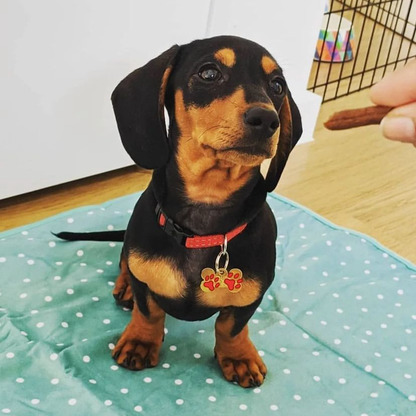dachshund: (82, 29, 314, 399)
